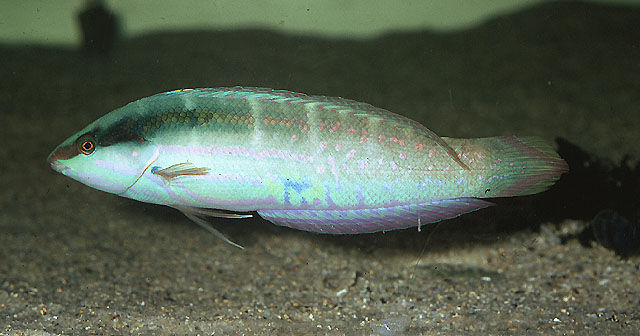fish: (47, 87, 568, 249)
